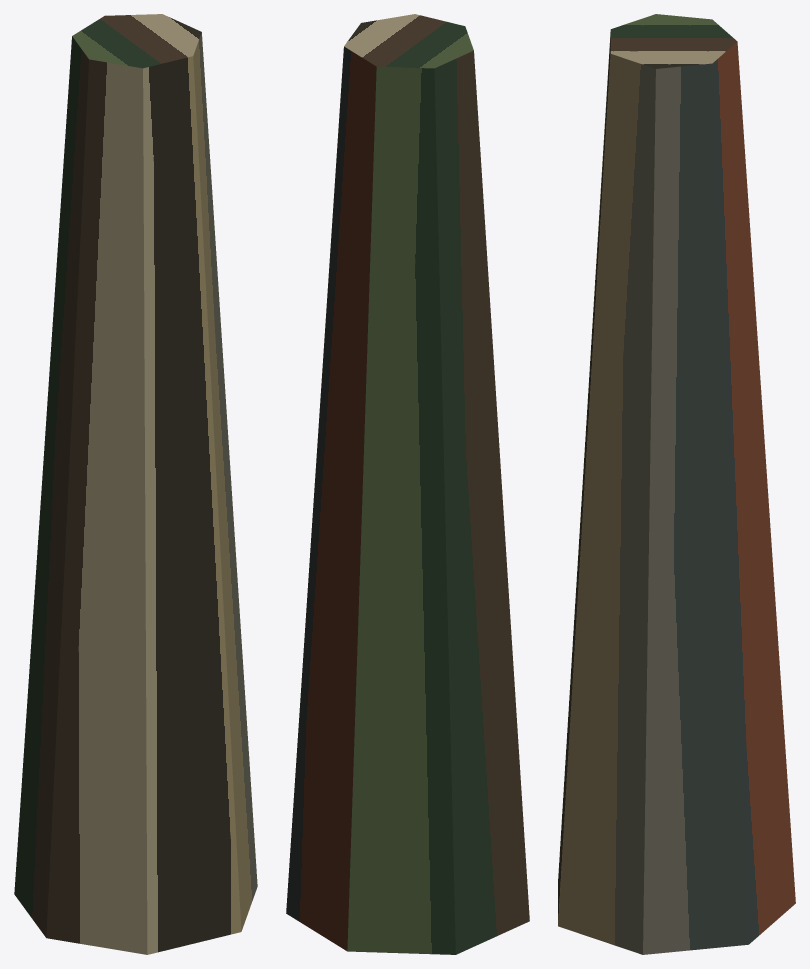
File: treeTrunks.obj
The picture shows the model from 3 angles, left to right: view 1: azimuth 30°, elevation 25°; view 2: azimuth 150°, elevation 25°; view 3: azimuth 270°, elevation 25°; orthographic projection.
Parts seen in each view (by area): view 1: treeTrunks; view 2: treeTrunks; view 3: treeTrunks.
Boxes of the visible parts, bbox=[...] form: treeTrunks: bbox=[14, 14, 257, 954]; treeTrunks: bbox=[286, 14, 529, 954]; treeTrunks: bbox=[558, 14, 795, 954].
Bounding box in the file's own units: 0.585 × 2.28 × 0.5703.
1 material, 1 textured.
